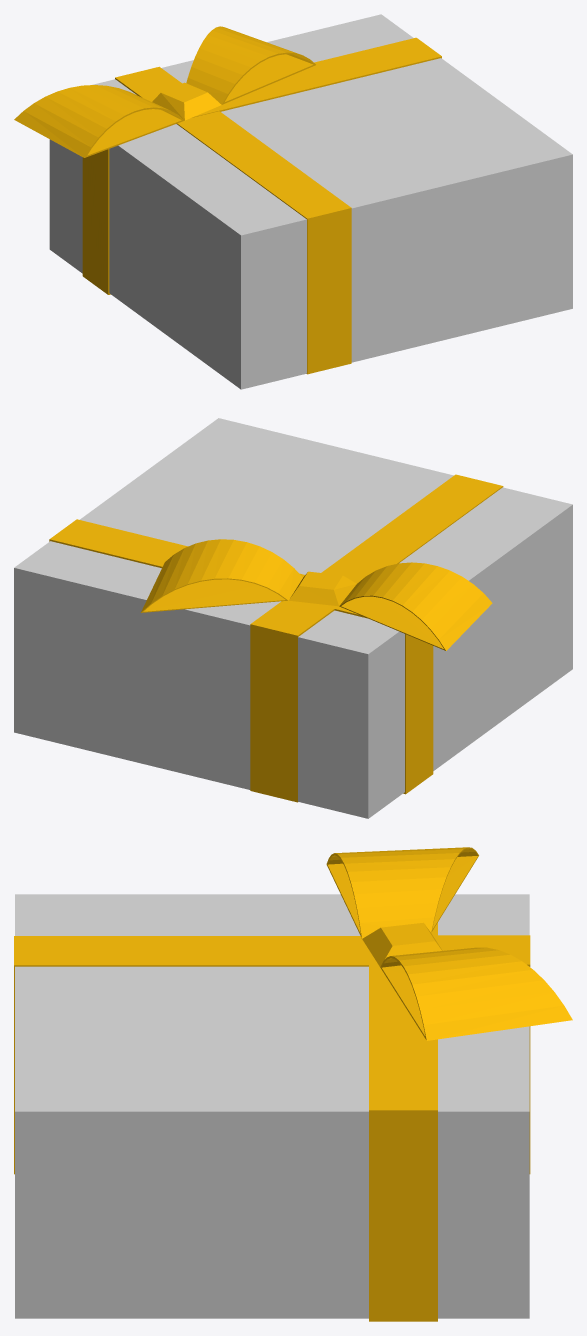
Rendered from Prop_Christmas_Present_White_07.FBX.
3 views of the same model, one above another, from view 1: azimuth 30°, elevation 25°; view 2: azimuth 150°, elevation 25°; view 3: azimuth 270°, elevation 25° (orthographic). The views are drawn at different scales.
Parts seen in each view (by area): view 1: Prop_Christmas_Present_White_07; view 2: Prop_Christmas_Present_White_07; view 3: Prop_Christmas_Present_White_07.
Boxes of the visible parts, left/top/right/bottom form: Prop_Christmas_Present_White_07: left=14, top=14, right=572, bottom=389; Prop_Christmas_Present_White_07: left=14, top=418, right=572, bottom=818; Prop_Christmas_Present_White_07: left=14, top=847, right=572, bottom=1321.
Bounding box in the file's own units: 387 × 178 × 360.
